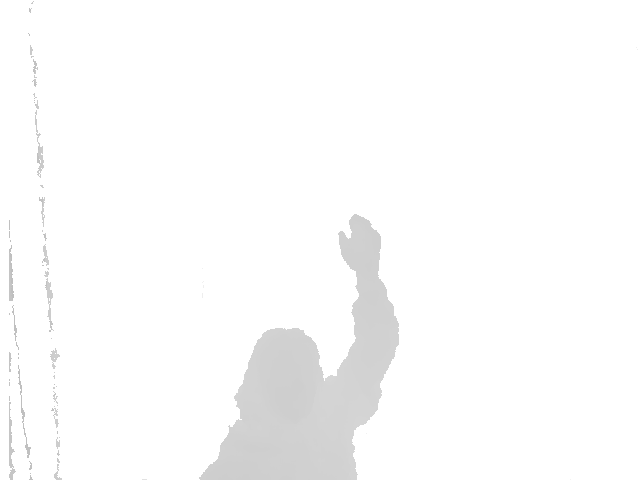hand: (337, 214, 381, 285)
head: (234, 328, 326, 423)
person: (200, 213, 400, 480)
